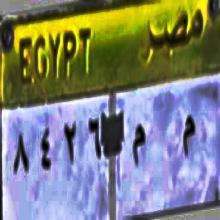2: (63, 114, 80, 171)
4: (40, 122, 55, 180)
6: (87, 114, 104, 169)
8: (12, 128, 30, 182)
meem: (127, 115, 151, 180), (174, 112, 198, 168)
